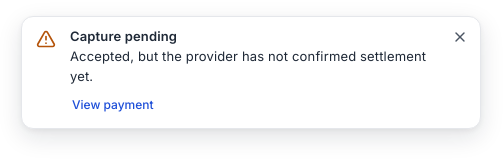
Test: real operations through the provider › payment capture: success only once captured, pending is a warning
Expected: the element named "warning notification" shows "Capture pending", [70, 28, 177, 44]
Step 1. Click the button "View payment" → {"x": 113, "y": 104}, box [64, 90, 162, 118]
Wait 250 ms
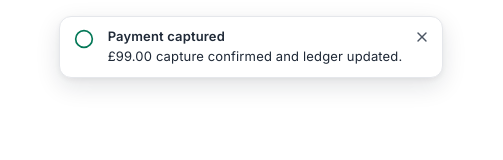
Now the element named "success notification" shows "Payment captured", box [108, 28, 225, 44]
